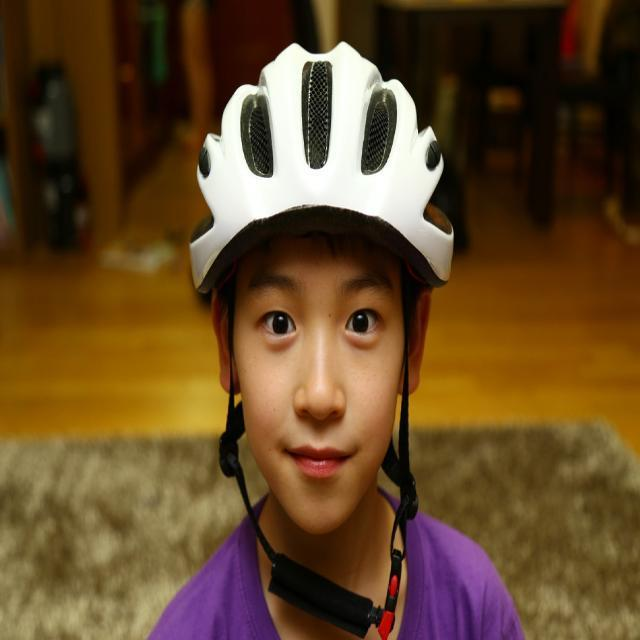with_helmet: (184, 39, 457, 538)
